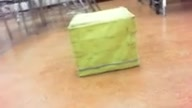cube: (67, 6, 141, 77)
